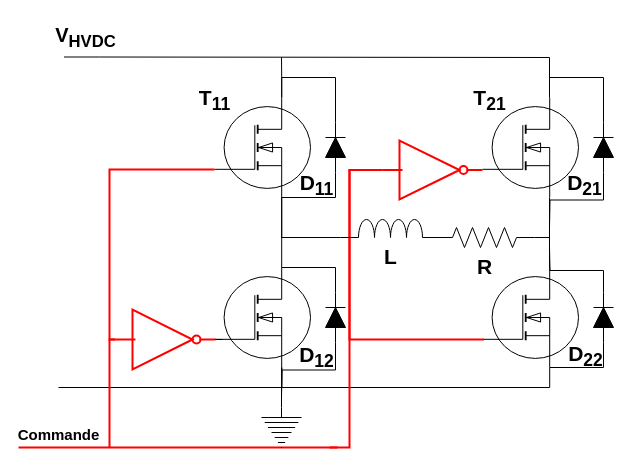
The diagram is 633 pixels wide and 466 high, and some of its shapes have lost their labels. The shapes that lost their labels are listed below. From the top down, each one's box as (x1, y1, x2, y2) in pixels, then its label:
(214, 266, 310, 368): T 12
(482, 266, 578, 368): T 22
